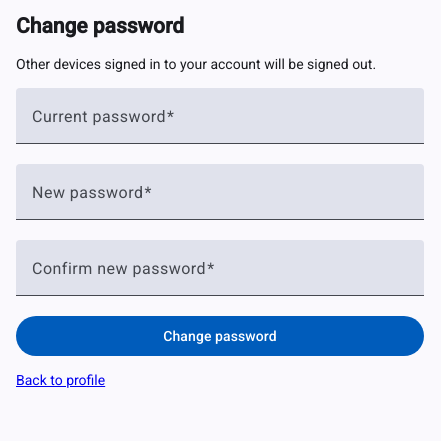
Test: ChangePasswordComponent › US-06 S2: a wrong current password shows an error and does not sign the user out
Type "oldpass11" into the password field labelled "Current password" at x=220, y=124, box [32,112,408,136]
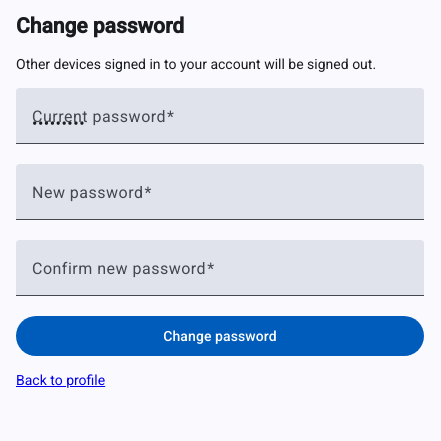
Type "newpass22" into the password field named "newPassword" at x=220, y=200, box [32,188,408,212]
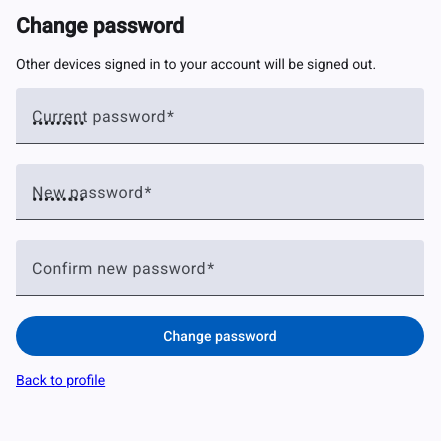
Type "newpass22" into the password field labelled "Confirm new password" at x=220, y=276, box [32,264,408,288]
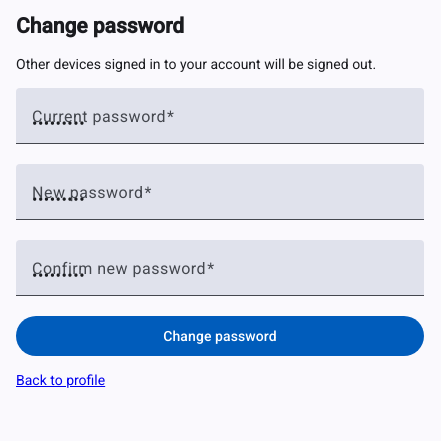
Submit the form, box [16,88,424,356]
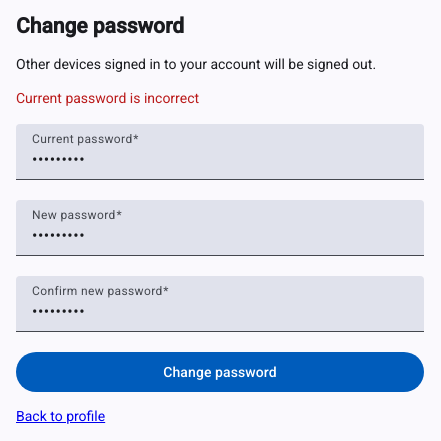
Check: the text "Current password is incorrect" is shown, box [16,90,199,106]
